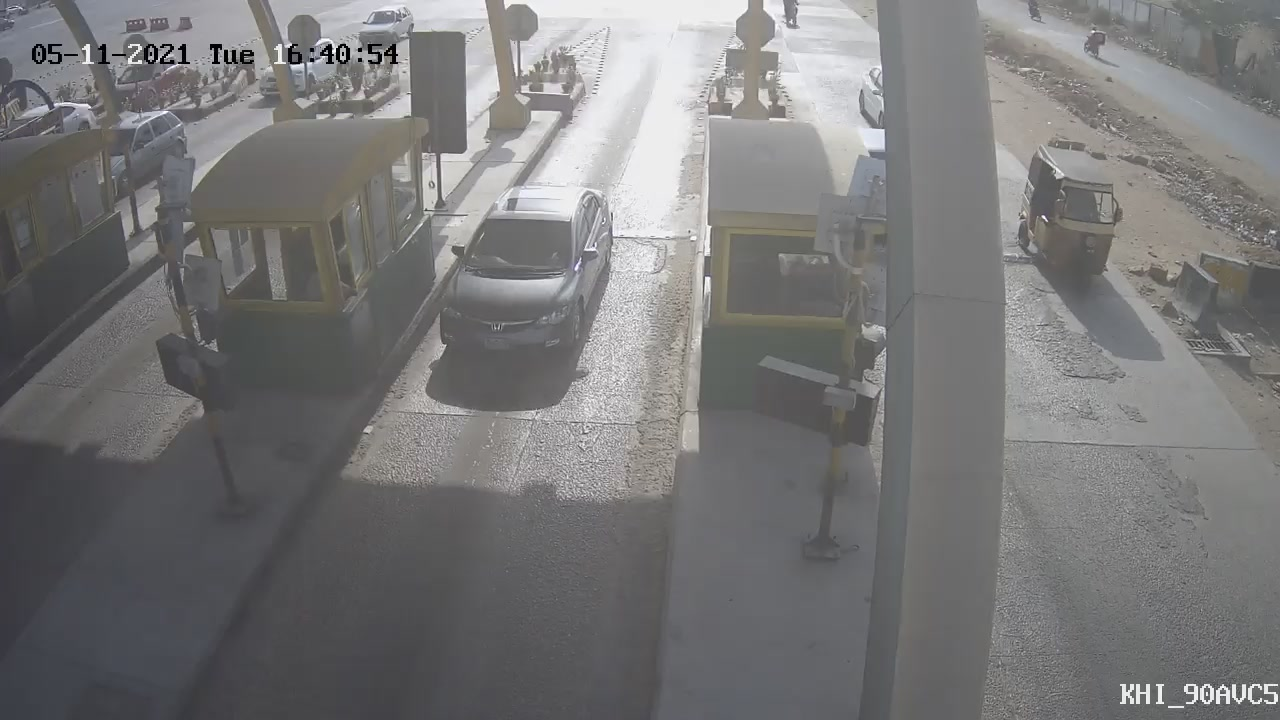F1: (425, 173, 626, 378)
